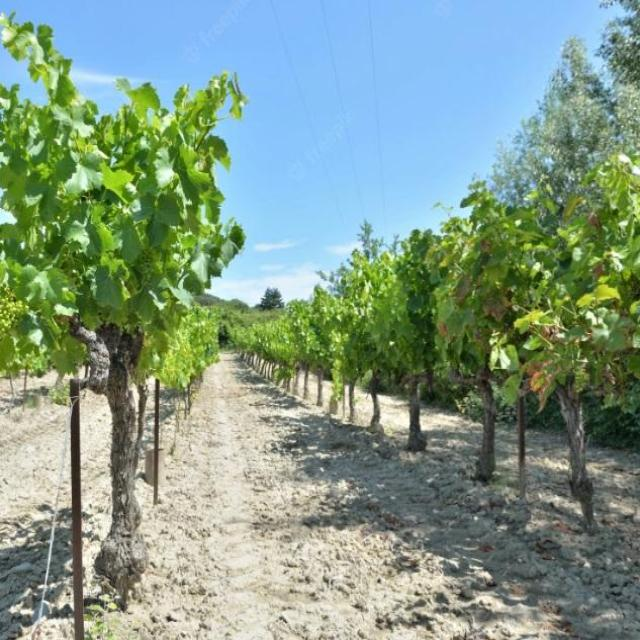row: (108, 350, 640, 640), (282, 365, 640, 519), (0, 396, 159, 639)
